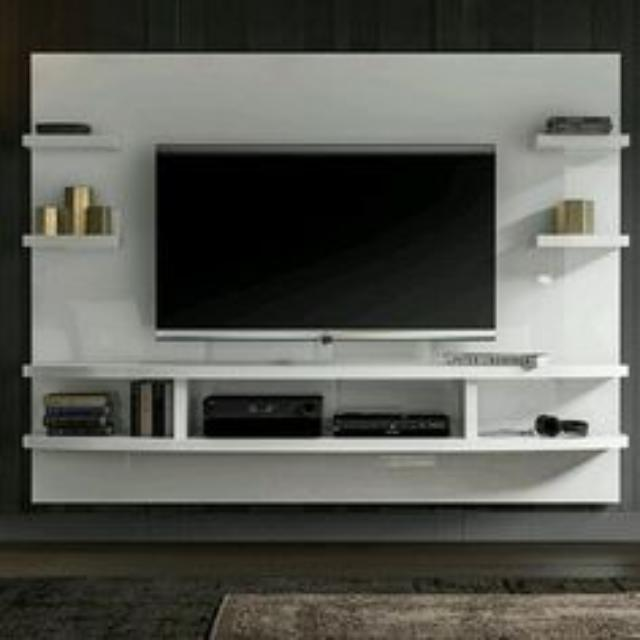Flat-Panel-TV: (151, 130, 531, 356)
